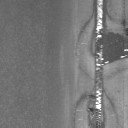slag inclusion: (72, 0, 126, 128)
